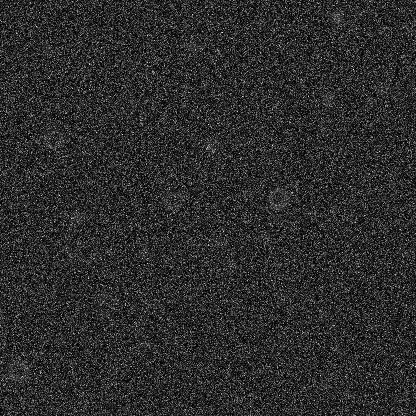Ring: (54, 243, 78, 267), (160, 188, 184, 212), (114, 93, 138, 117), (6, 359, 30, 383), (41, 126, 65, 150), (265, 185, 289, 209), (93, 292, 117, 316)
Spot: (211, 232, 227, 248), (134, 243, 150, 259), (133, 335, 149, 351), (320, 91, 336, 107), (221, 254, 237, 270), (203, 138, 219, 154), (69, 209, 85, 225), (40, 42, 56, 58), (184, 39, 200, 55), (373, 82, 389, 98), (257, 226, 273, 242), (328, 9, 344, 25)
